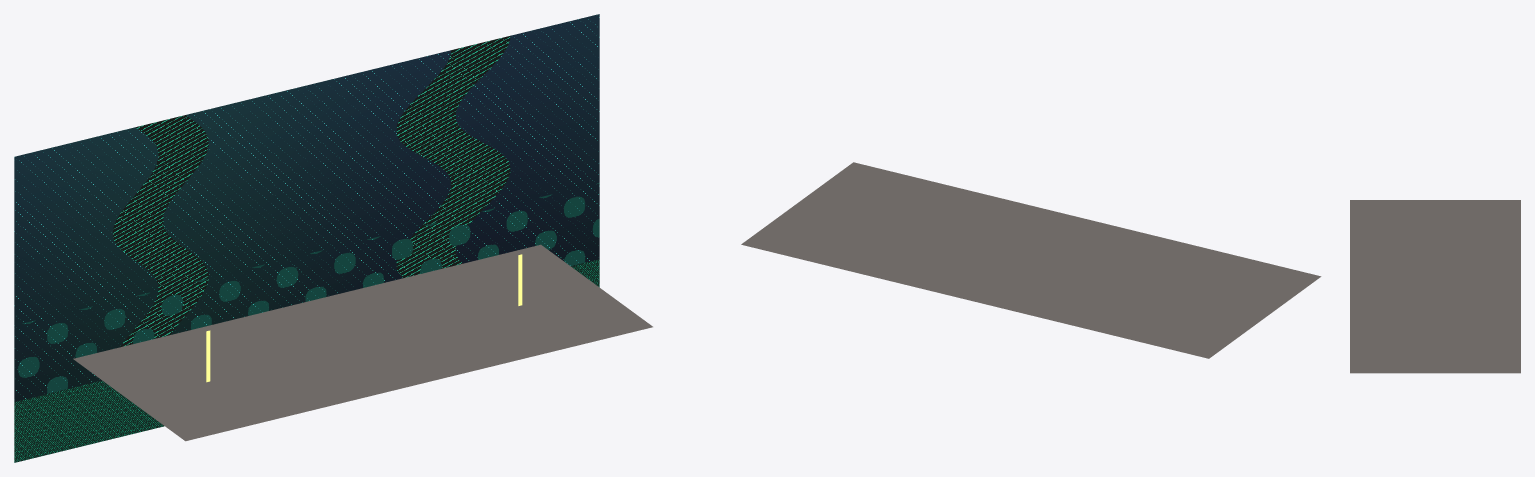
Rendered from stage_dandakaranya_forest.glb.
3 renders of one model, left to right at view 1: azimuth 30°, elevation 25°; view 2: azimuth 150°, elevation 25°; view 3: azimuth 270°, elevation 25°, orthographic. The views are drawn at different scales.
Parts seen in each view (by area): view 1: FOF_StageBackdrop, FOF_FightingFloor; view 2: FOF_FightingFloor; view 3: FOF_FightingFloor.
Part boxes in pixels (x1=…): FOF_StageBackdrop: x1=14, y1=14, x2=599, y2=462; FOF_FightingFloor: x1=73, y1=244, x2=652, y2=441; FOF_FightingFloor: x1=741, y1=162, x2=1321, y2=358; FOF_FightingFloor: x1=1350, y1=200, x2=1520, y2=373.
Bounding box in the file's own units: 60 × 30 × 20.
Materials: 3 (1 with a texture image).
